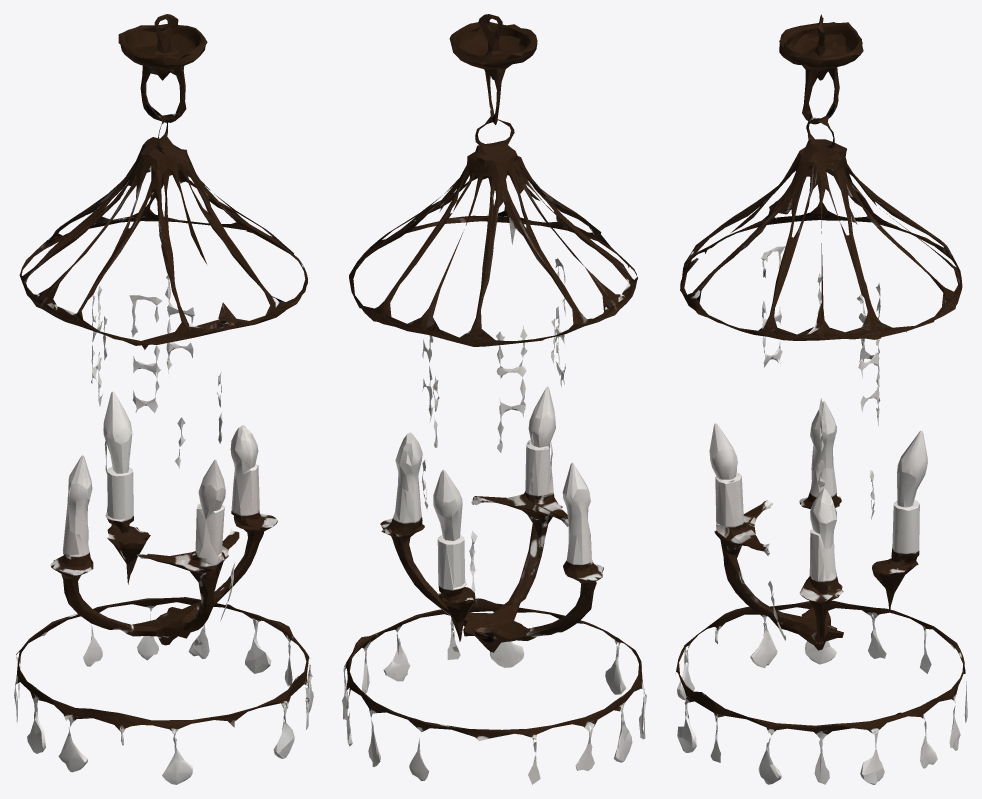
Rendered from birdcage.glb.
3 renders of one model, left to right at view 1: azimuth 30°, elevation 25°; view 2: azimuth 150°, elevation 25°; view 3: azimuth 270°, elevation 25°, orthographic.
Visible parts, largest first — view 1: chandelier; view 2: chandelier; view 3: chandelier.
Part boxes in pixels (box(x1,y1,x2,y2)): chandelier: box(14, 14, 313, 784); chandelier: box(342, 14, 646, 784); chandelier: box(675, 14, 967, 784).
Bounding box in the file's own units: 0.46 × 1.2 × 0.4481.
1 material, 1 textured.
